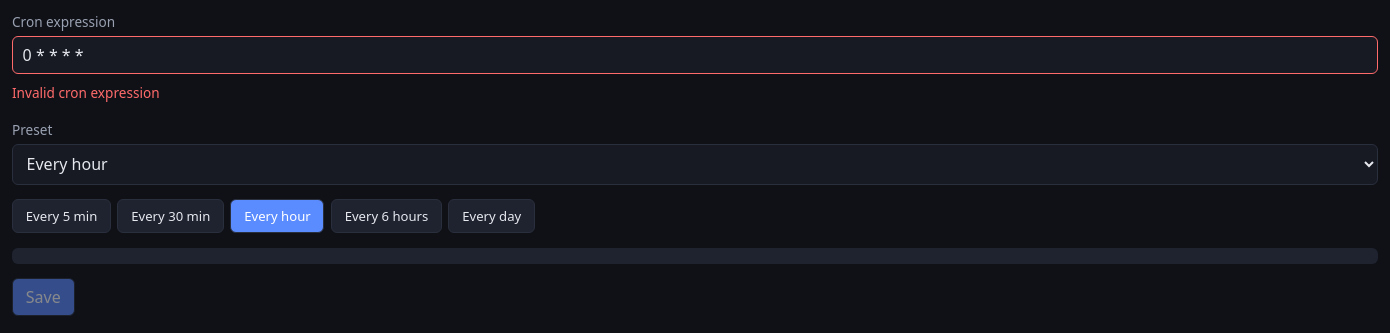
Test: ScheduleForm › updates the cron field from the preset select
Select "Every day" in the dropdown labelled "Preset" at (695, 164), box [12, 144, 1378, 185]
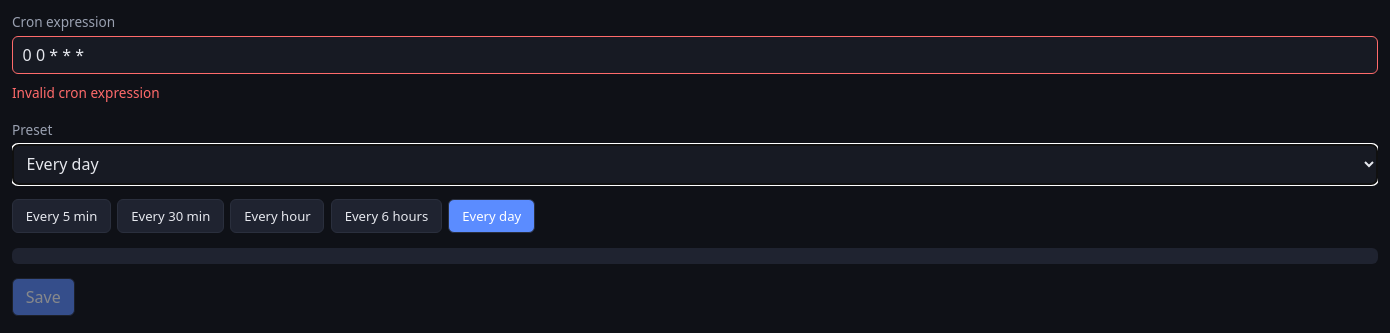
Check: the field labelled "Cron expression" holds "0 0 * * *", box [12, 36, 1378, 74]
